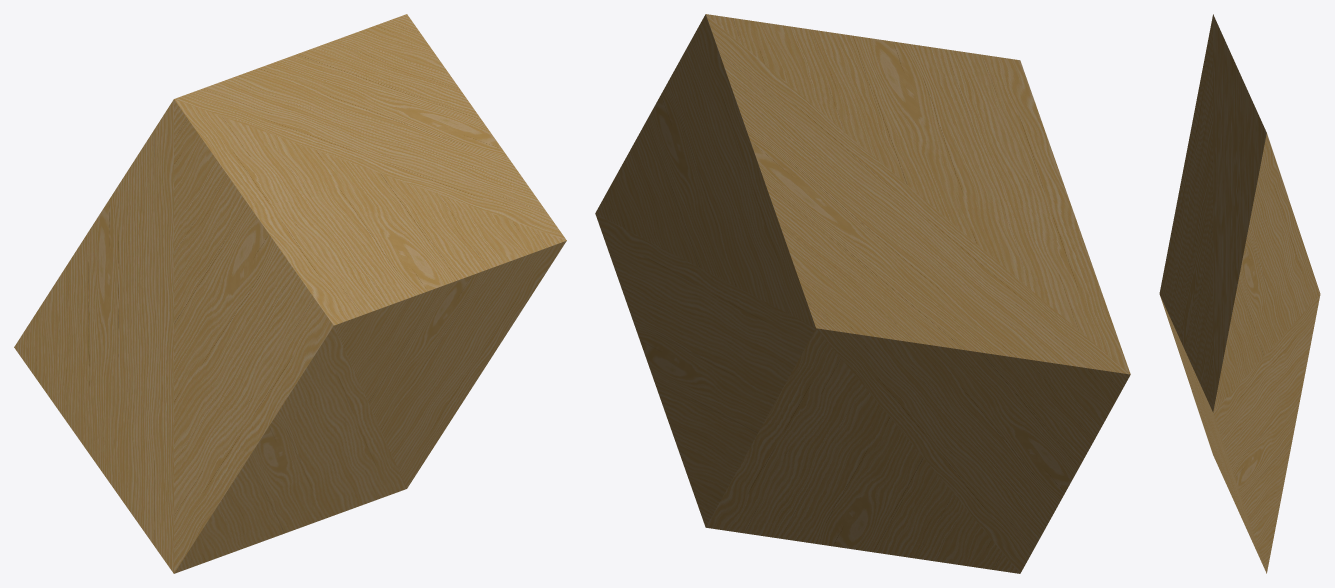
The model's file is ObtuseGoldenRhombohedron.glb.
The picture shows the model from 3 angles, left to right: view 1: azimuth 30°, elevation 25°; view 2: azimuth 150°, elevation 25°; view 3: azimuth 270°, elevation 25°; orthographic projection. The views are drawn at different scales.
Visible parts, largest first — view 1: 000_model; view 2: 000_model; view 3: 000_model.
Boxes of the visible parts, x1,y1,x2,y2 form: 000_model: [14, 14, 566, 573]; 000_model: [595, 14, 1130, 573]; 000_model: [1159, 14, 1320, 573].
Size of the model in its own units: 7.86 by 6.81 by 2.25.
Materials: 1 (1 with a texture image).
